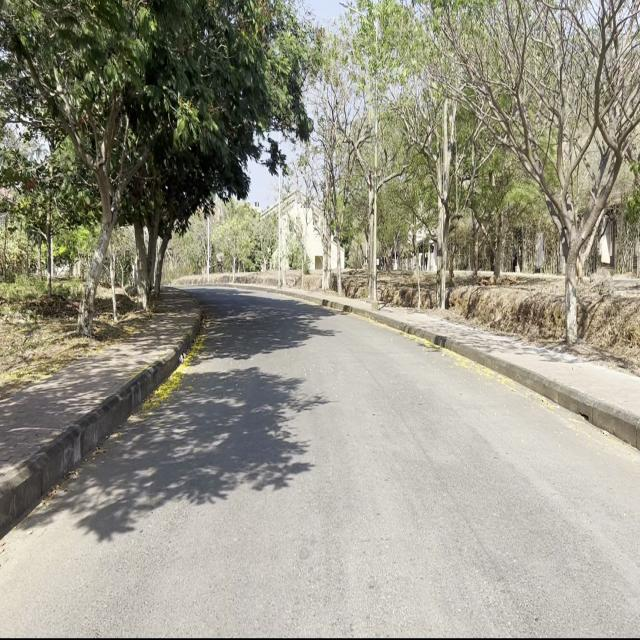Road: (5, 288, 635, 633)
